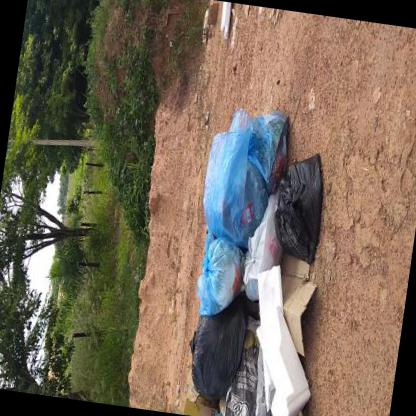lixo: (183, 126, 331, 415)
